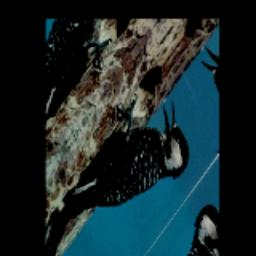Woodpecker: (54, 53, 200, 256)
